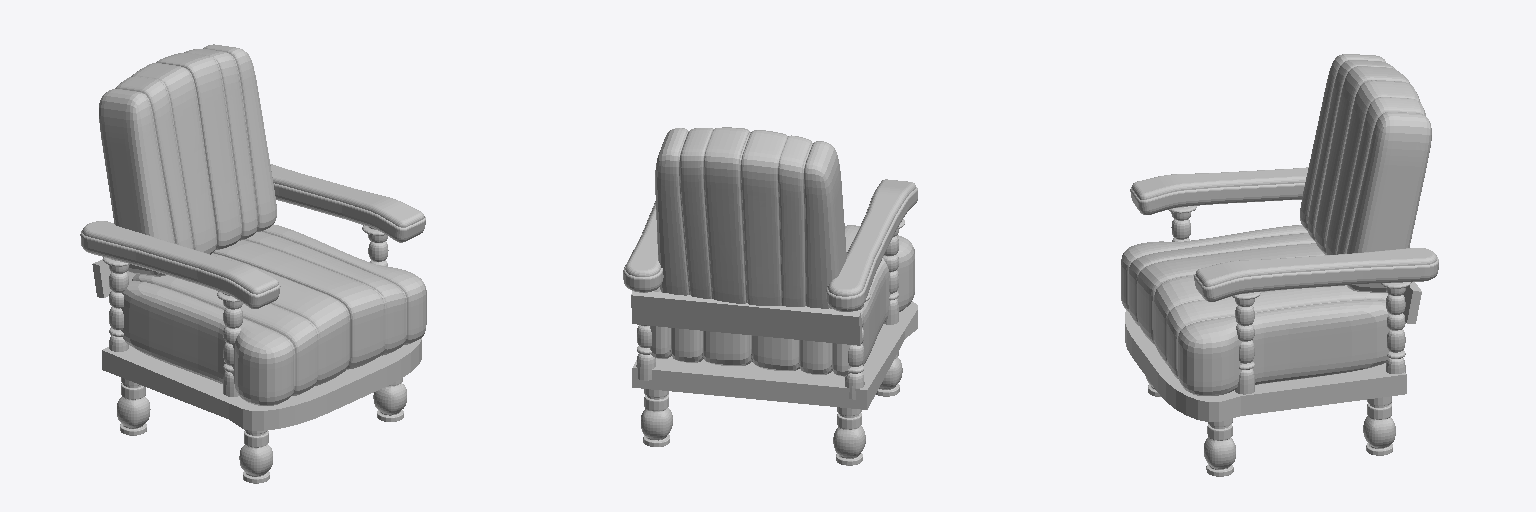
Rendered from SetA_Chair_Style_01.obj.
The picture shows the model from 3 angles: view 1: azimuth 30°, elevation 25°; view 2: azimuth 150°, elevation 25°; view 3: azimuth 270°, elevation 25°; orthographic projection.
Visible parts, largest first — view 1: SetA_Chair_Style_01; view 2: SetA_Chair_Style_01; view 3: SetA_Chair_Style_01.
Part boxes in pixels (bbox=[...]): SetA_Chair_Style_01: bbox=[80, 44, 426, 483]; SetA_Chair_Style_01: bbox=[623, 127, 917, 465]; SetA_Chair_Style_01: bbox=[1121, 54, 1438, 476].
Size of the model in its own units: 1.01 by 1.18 by 1.03.